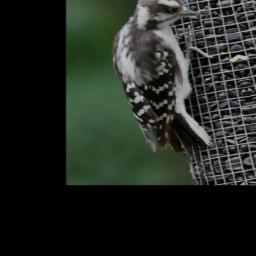Woodpecker: (97, 0, 238, 167)
